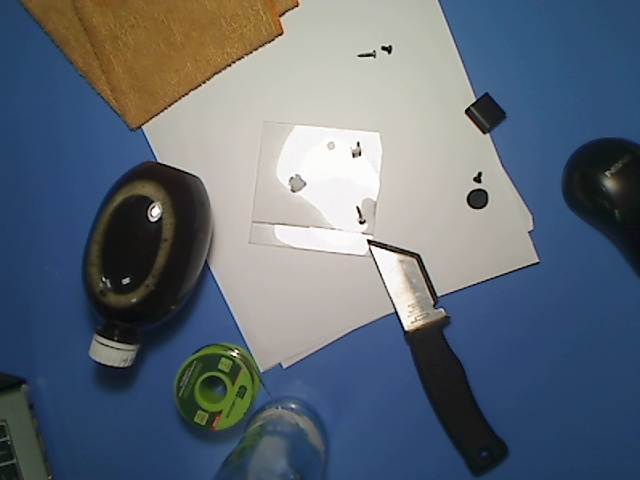plast_bottle: (76, 157, 217, 378)
